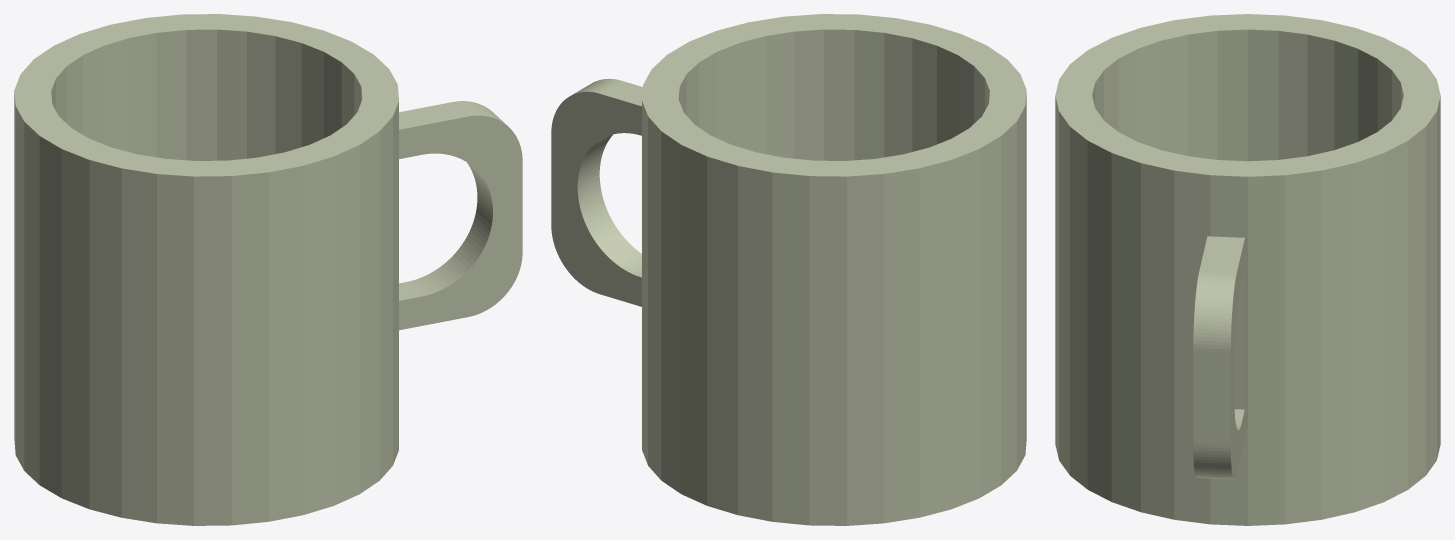
File: Caneca.fbx
The picture shows the model from 3 angles, left to right: view 1: azimuth 30°, elevation 25°; view 2: azimuth 150°, elevation 25°; view 3: azimuth 270°, elevation 25°; orthographic projection.
Visible parts, largest first — view 1: Cylinder.036; view 2: Cylinder.036; view 3: Cylinder.036.
Boxes of the visible parts, <box> form: Cylinder.036: <box>14,14,522,525</box>; Cylinder.036: <box>551,14,1026,525</box>; Cylinder.036: <box>1055,14,1440,525</box>.
Size of the model in its own units: 87.12 by 63.43 by 63.43.
